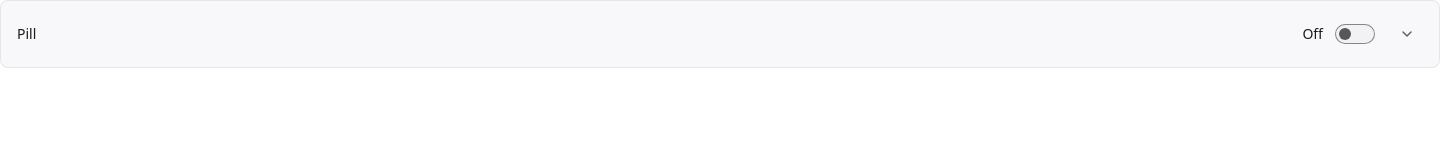
Test: SettingsExpander › starts collapsed and expands from the chevron
This screenshot has width=1440, height=160.
Expected: the text "Opacity" is not shown
Click the button named "Expand Pill".
click(1407, 34)  # box [1391,18,1423,50]
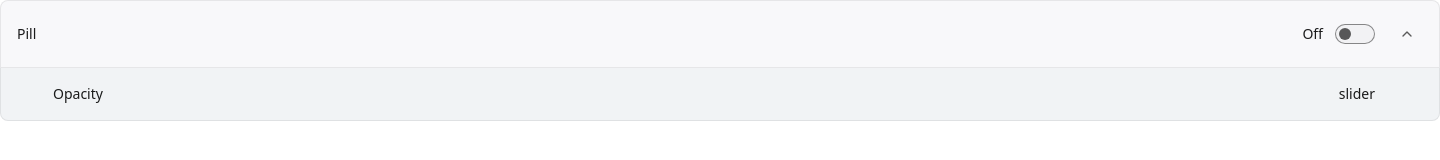
Result: the text "Opacity" is shown at [53,84,103,103]
Result: the button named "Collapse Pill" is expanded at [1391,18,1423,50]
